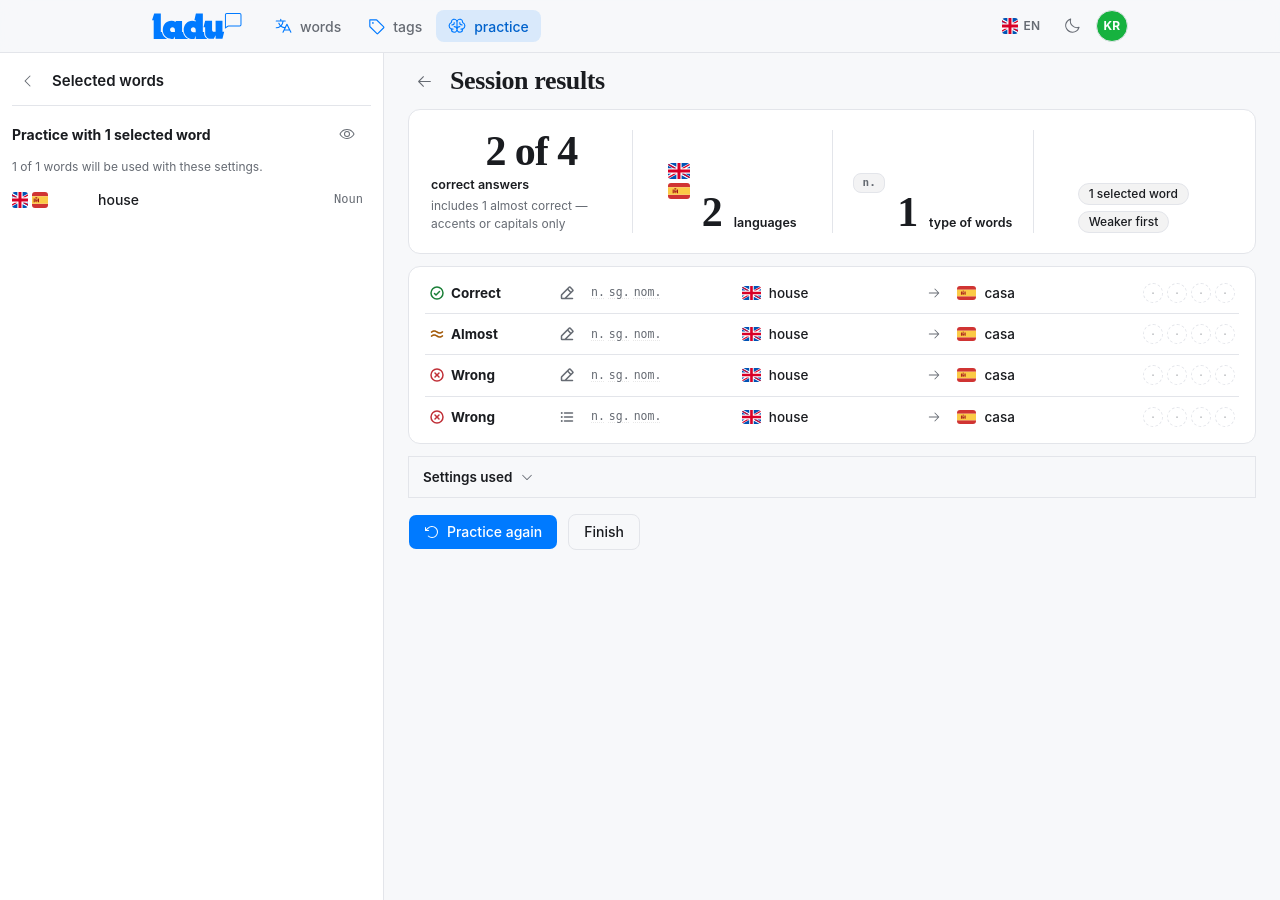
Test: ResultsView › keeps the settings summary closed until asked
Check: the text "Number of exercises" is not shown
Click the button "Settings used". click: click(468, 477)
box: [409,457,1255,497]
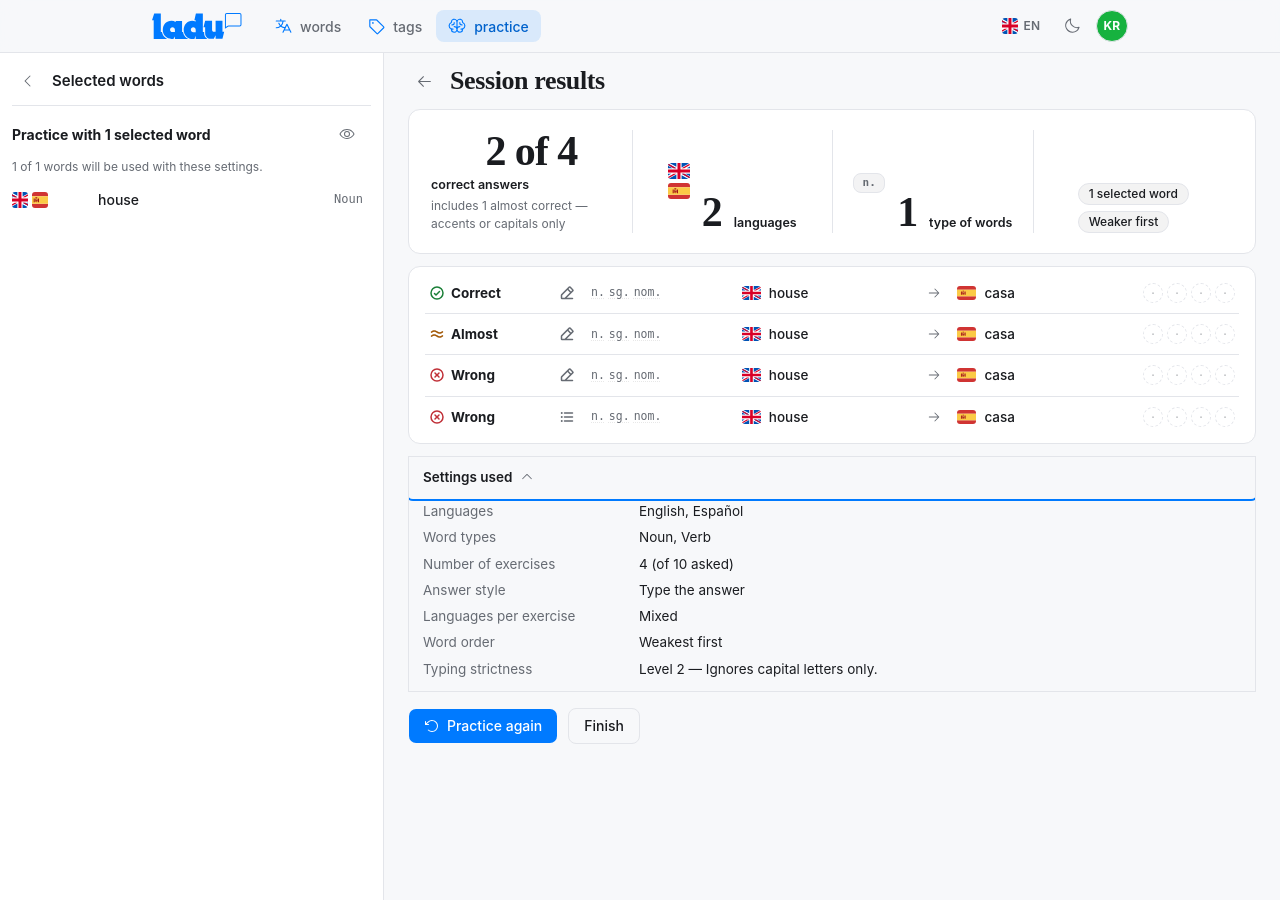
Check: the text "Number of exercises" is shown, box [423,556,555,572]
Check: the text "Level 2 — Ignores capital letters only." is shown, box [639,660,878,676]
